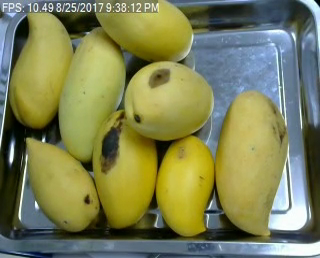Mango: (207, 81, 286, 238), (57, 24, 130, 160), (15, 132, 105, 234), (88, 109, 156, 229), (124, 62, 221, 145), (10, 7, 74, 131), (88, 0, 193, 65), (155, 135, 217, 239)
